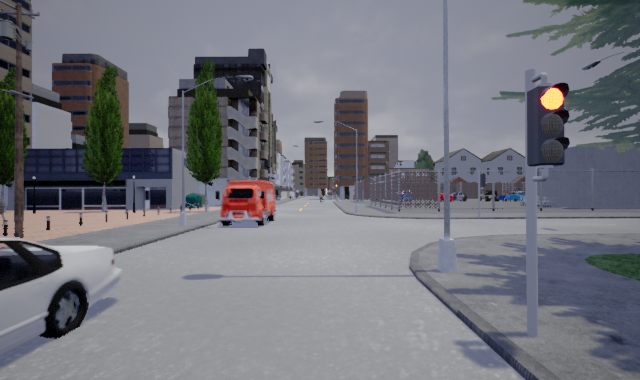vehicle: (1, 238, 122, 355), (211, 178, 278, 229), (503, 190, 525, 203), (476, 190, 498, 202), (448, 192, 468, 201)
